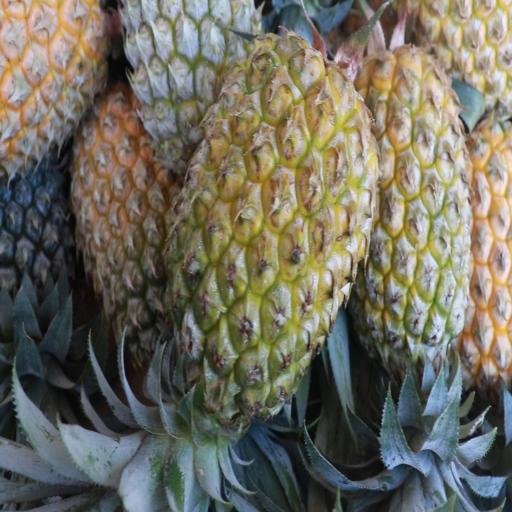------------------------------: (77, 104, 172, 344)
Pineapple - v8 v1: (174, 54, 377, 410), (362, 54, 472, 359)
